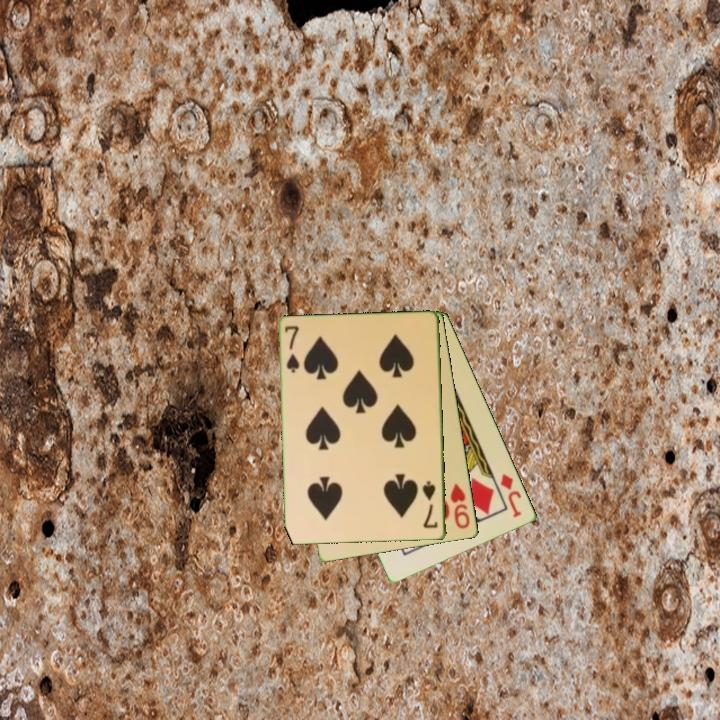7s: (419, 478, 441, 531), (282, 322, 303, 376)
9h: (447, 480, 473, 532)
Jd: (497, 470, 525, 520)
